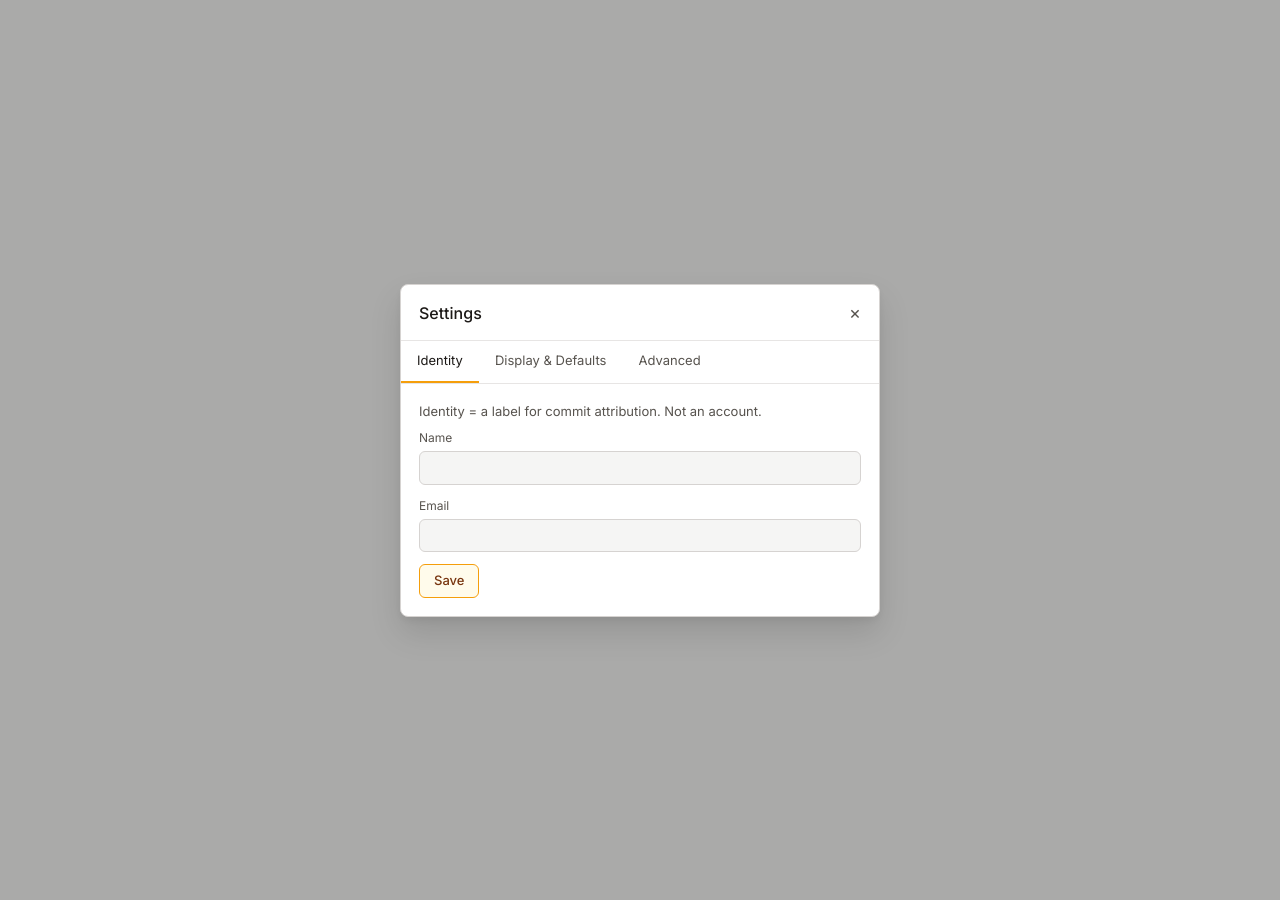
K6 — UnderConstruction + DagPlaceholder + SettingsModal › SettingsModal: Identity, Display, Advanced tabs all reachable
expect the button with test id "settings-tab-identity" is shown: met, box x1=401 y1=341 x2=479 y2=382
expect the button with test id "settings-tab-display" is shown: met, box x1=479 y1=341 x2=622 y2=382
Click the button with test id "settings-tab-advanced" at [670, 362], box x1=622 y1=341 x2=717 y2=382
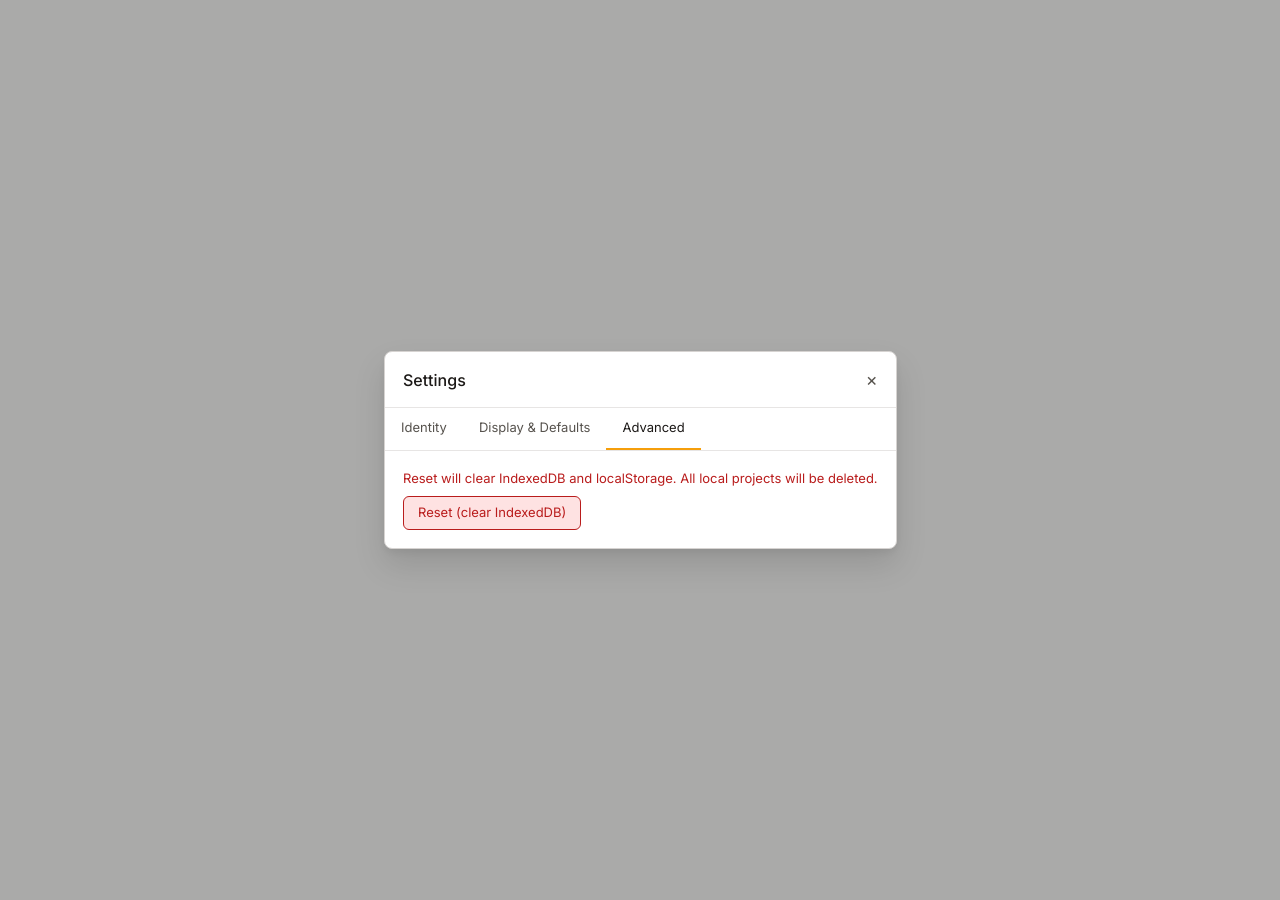
expect the element with test id "settings-tab-content-advanced" is shown: met, box x1=403 y1=469 x2=877 y2=530
Click the button with test id "settings-tab-display" at [534, 429], box x1=463 y1=408 x2=606 y2=450
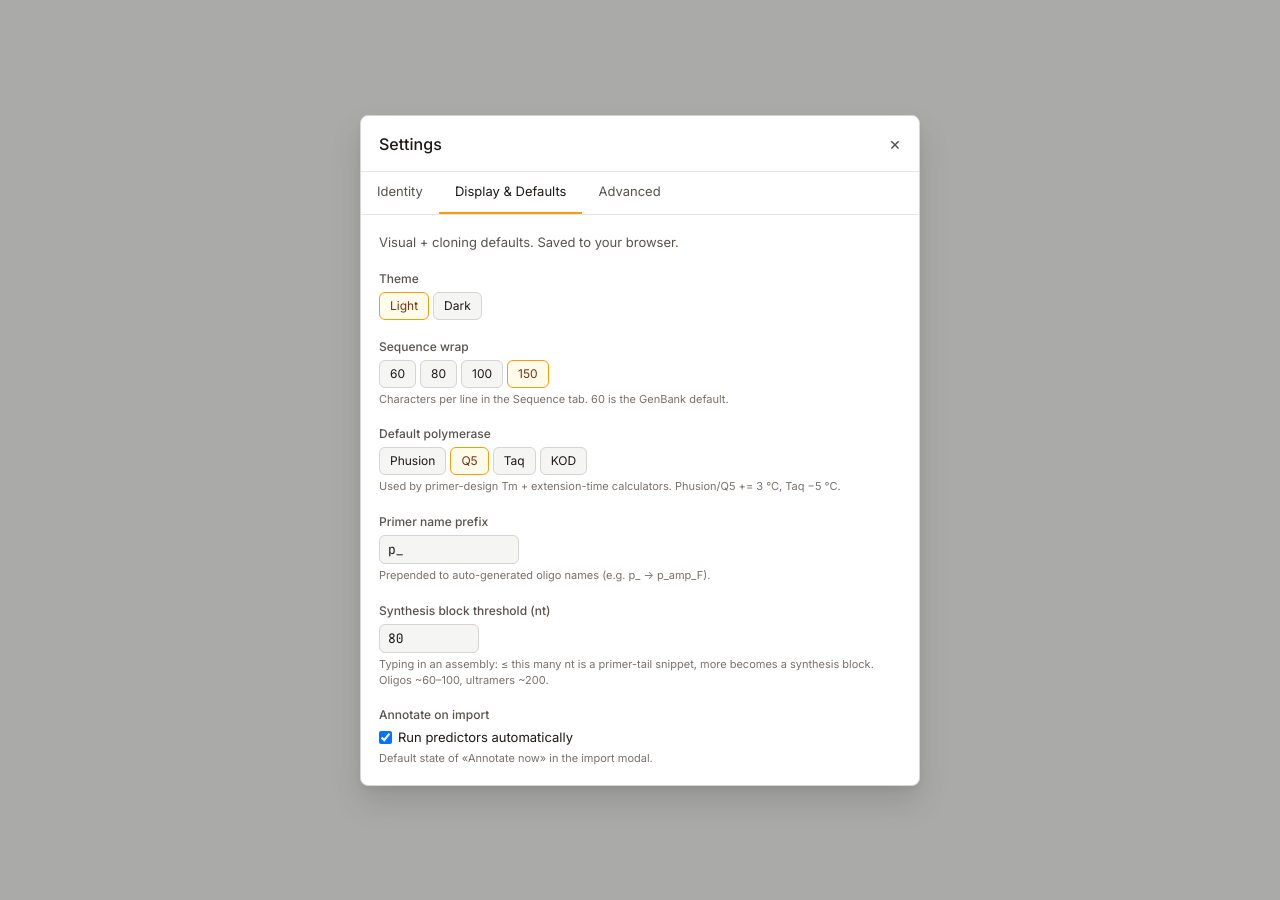
expect the element with test id "settings-tab-content-display" is shown: met, box x1=379 y1=232 x2=901 y2=766
Click the button with test id "settings-tab-identity" at [400, 192], box x1=361 y1=172 x2=439 y2=213
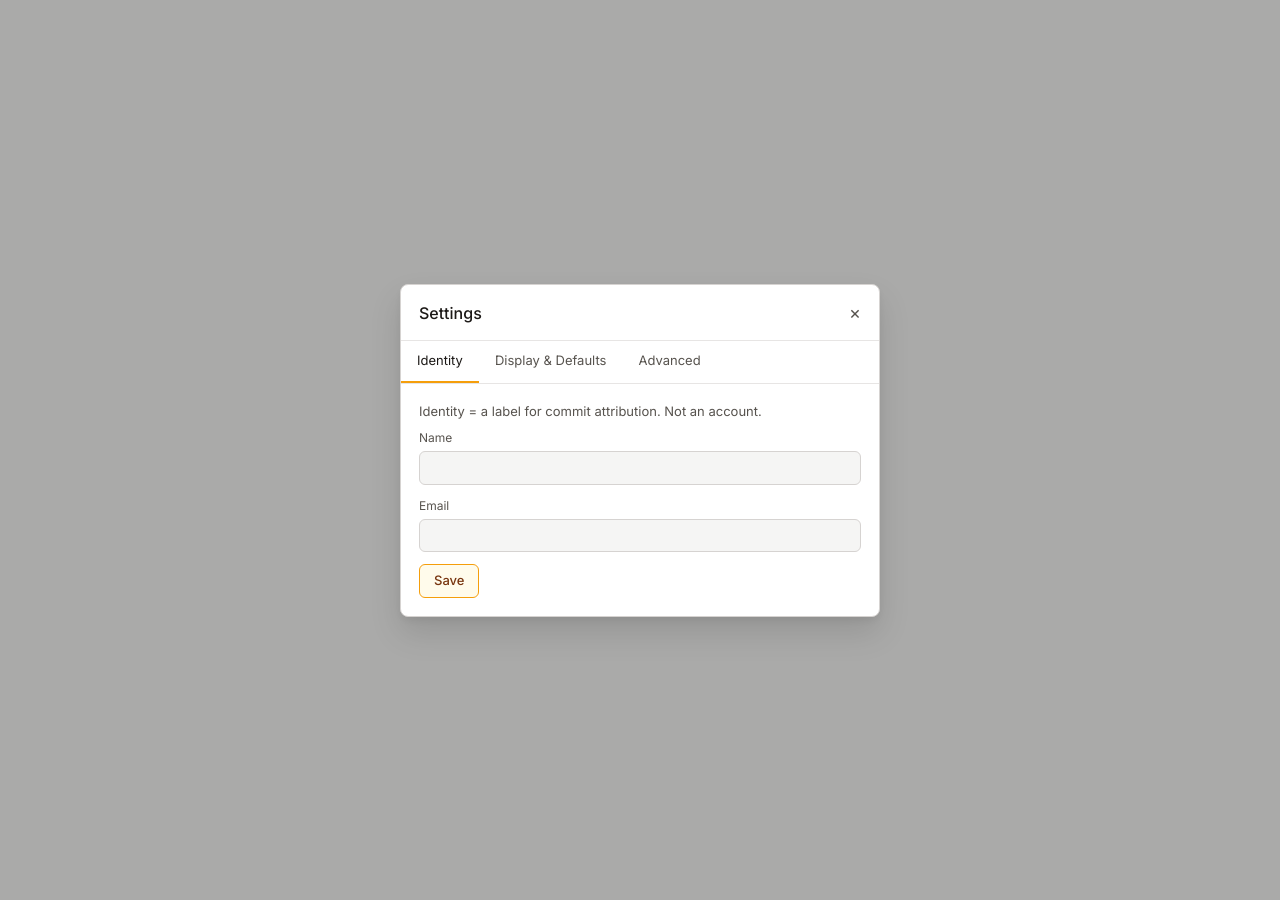
expect the element with test id "settings-tab-content-identity" is shown: met, box x1=419 y1=401 x2=861 y2=597
